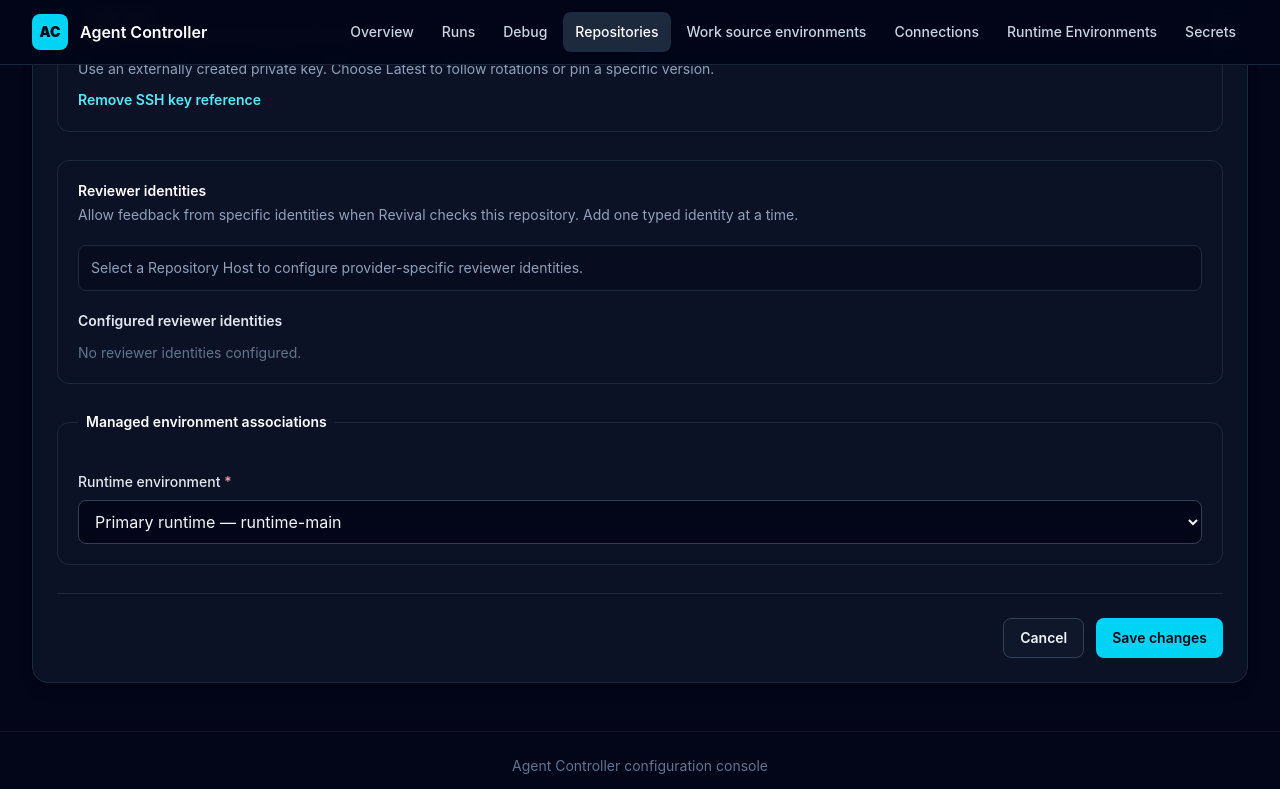
Test: repository onboarding screens › surfaces an incompatible secret type and the server validation error
(page scrolled)
expect the text "Selected secret type is PAT; expected SSH key." is shown: met, box [91,26,359,41]
Click the button "Save changes" at (1160, 638), box [1096,618,1223,658]
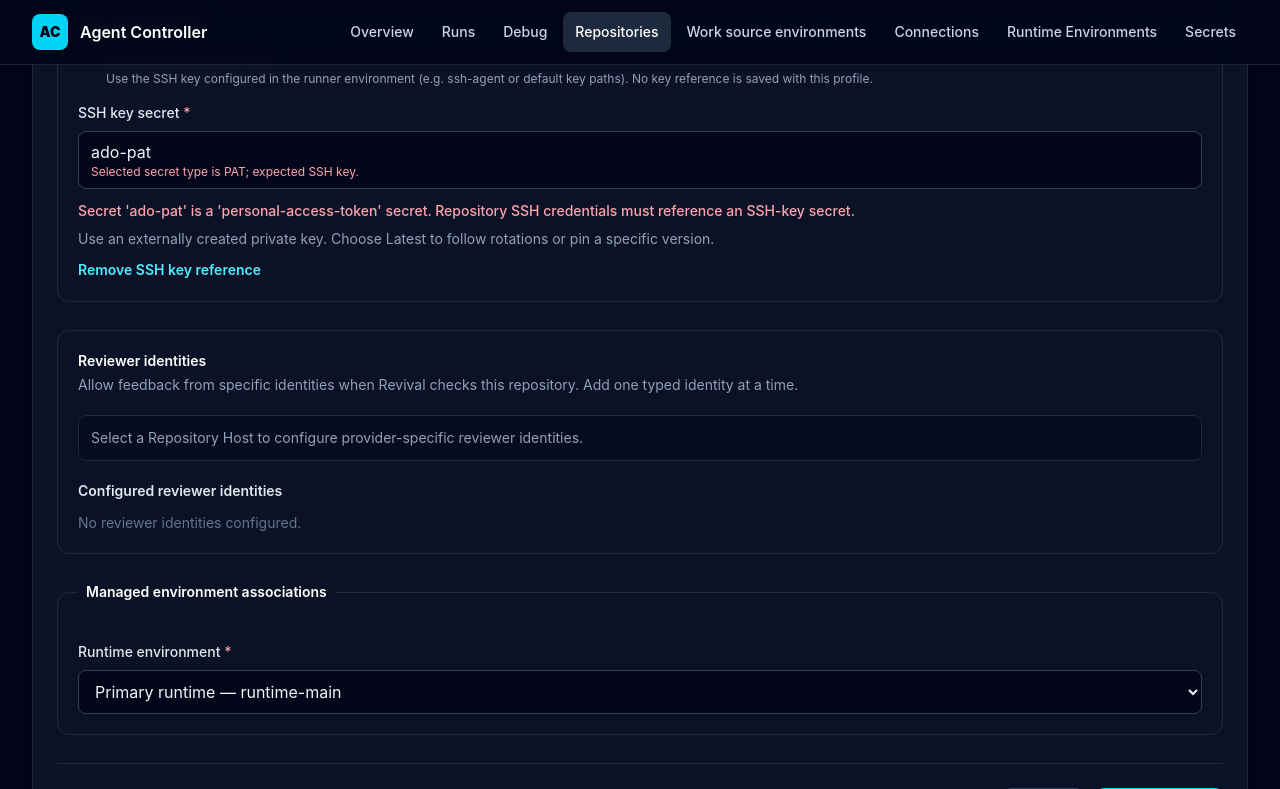
expect the text "Repository SSH credentials must reference an SSH-key secret" is shown 2 times: met
expect the text "Repository SSH credentials must reference an SSH-key secret" is shown: met, box [78,202,855,219]
